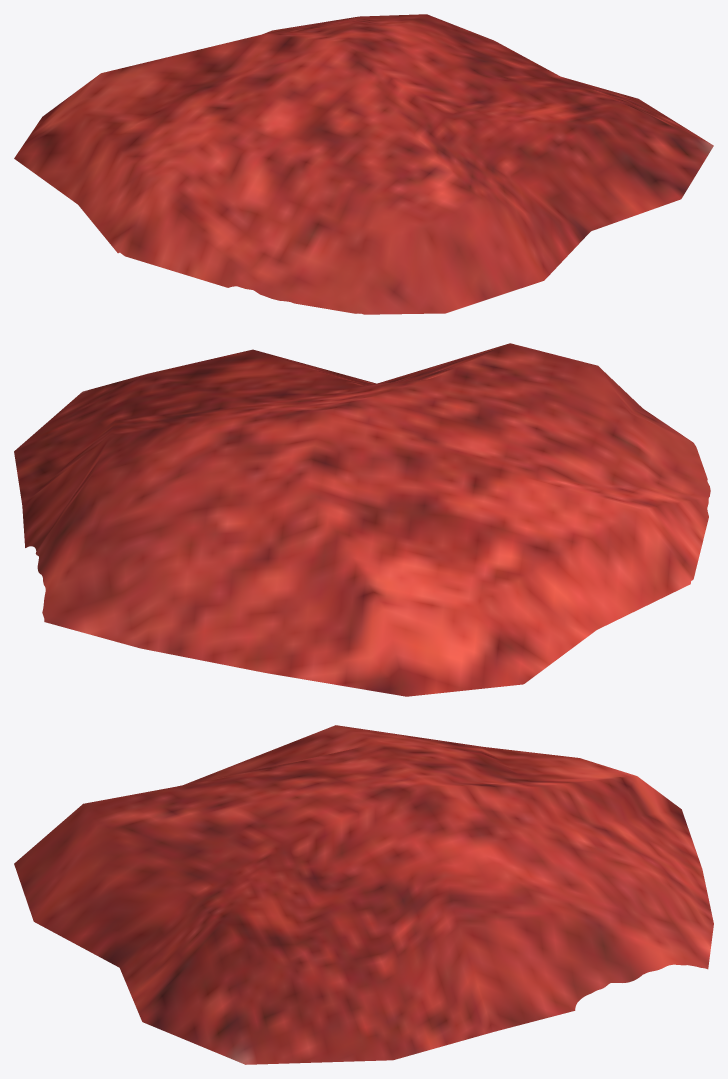
File: red_powder.FBX
3 views of the same model, one above another, from view 1: azimuth 30°, elevation 25°; view 2: azimuth 150°, elevation 25°; view 3: azimuth 270°, elevation 25° (orthographic). The views are drawn at different scales.
Visible parts, largest first — view 1: red_powder; view 2: red_powder; view 3: red_powder.
Boxes of the visible parts, left/top/right/bottom form: red_powder: left=14, top=14, right=713, bottom=314; red_powder: left=14, top=343, right=710, bottom=696; red_powder: left=14, top=725, right=713, bottom=1064.
Bounding box in the file's own units: 23.16 × 4.47 × 22.79.
